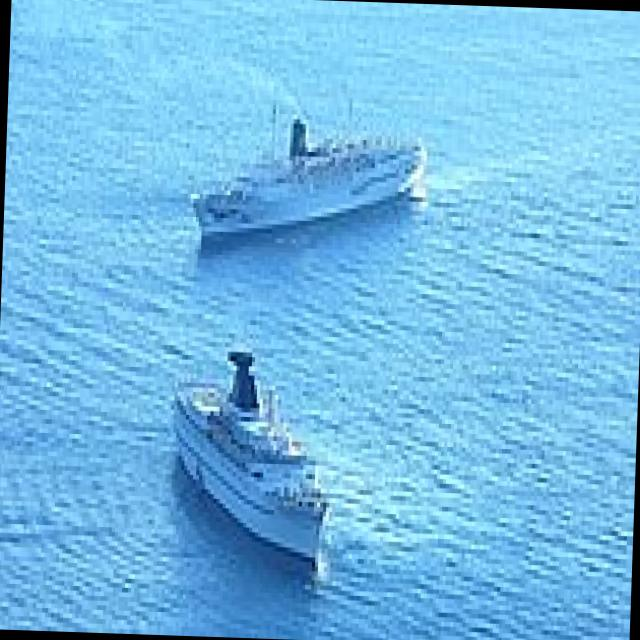boat: (148, 324, 342, 580), (181, 120, 444, 222)
